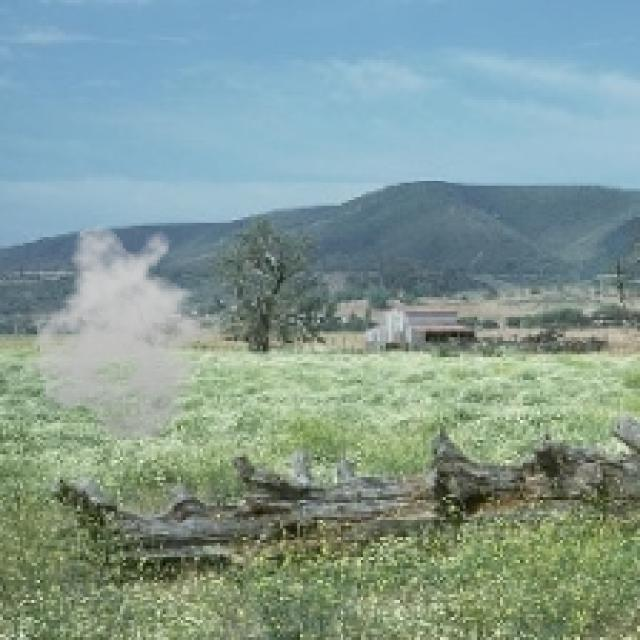smoke: (20, 223, 226, 443)
